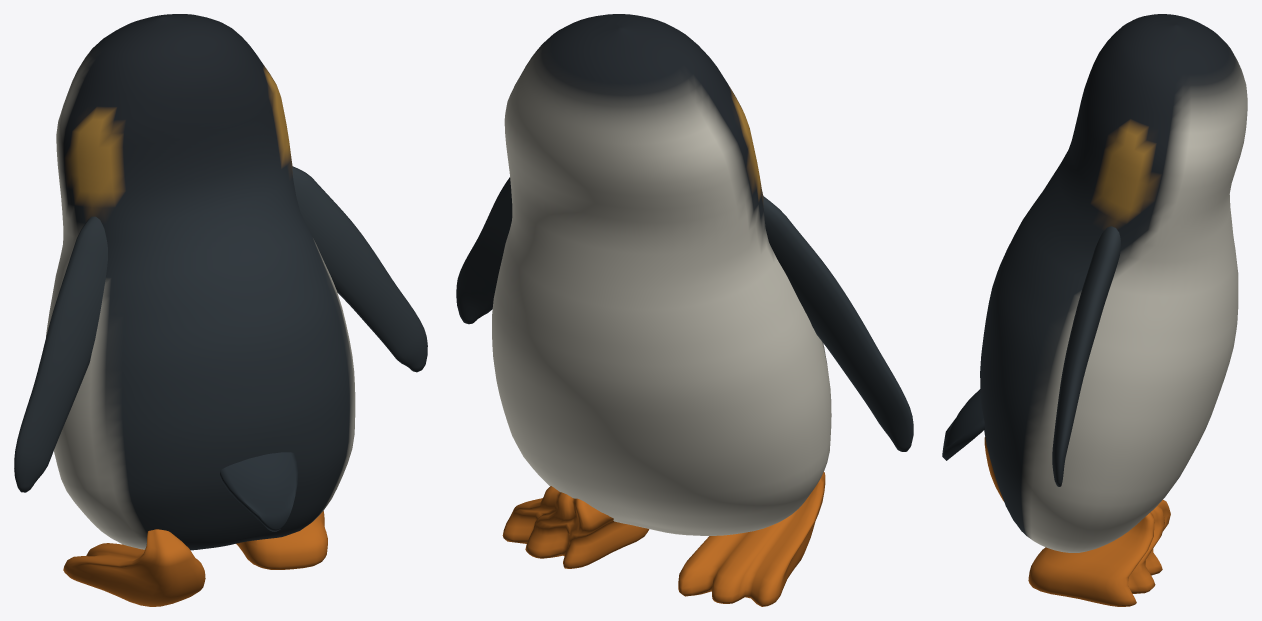
Rendered from candidate.glb.
3 views of the same model, side by side, from view 1: azimuth 30°, elevation 25°; view 2: azimuth 150°, elevation 25°; view 3: azimuth 270°, elevation 25° (orthographic). The views are drawn at different scales.
Parts seen in each view (by area): view 1: RearBlockout; view 2: RearBlockout; view 3: RearBlockout.
Part boxes in pixels (x1,y1,x2,y2): RearBlockout: [14, 14, 427, 606]; RearBlockout: [456, 14, 913, 606]; RearBlockout: [942, 14, 1247, 606].
Size of the model in its own units: 1.42 by 1.69 by 0.8989.
